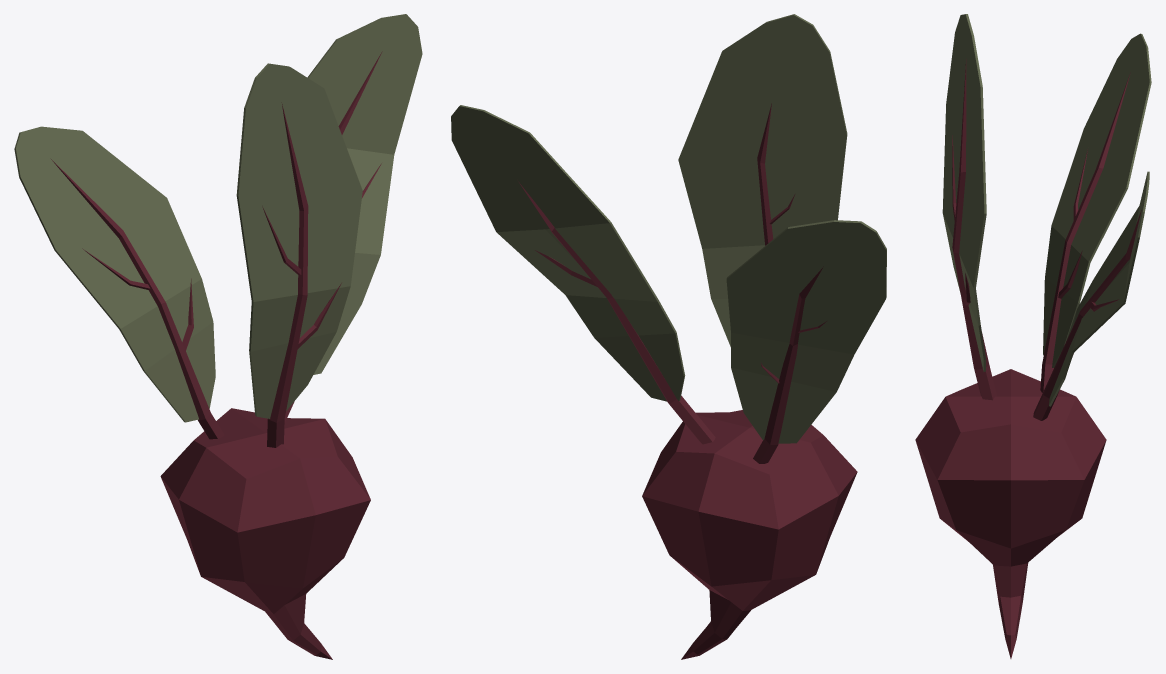
Rendered from Beet_4.glb.
3 renders of one model, left to right at view 1: azimuth 30°, elevation 25°; view 2: azimuth 150°, elevation 25°; view 3: azimuth 270°, elevation 25°, orthographic. The views are drawn at different scales.
Parts seen in each view (by area): view 1: Beet_4; view 2: Beet_4; view 3: Beet_4.
Boxes of the visible parts, x1,y1,x2,y2 form: Beet_4: [14, 14, 422, 659]; Beet_4: [451, 14, 886, 659]; Beet_4: [915, 14, 1151, 658].
Size of the model in its own units: 0.7512 by 1.1 by 0.3899.
